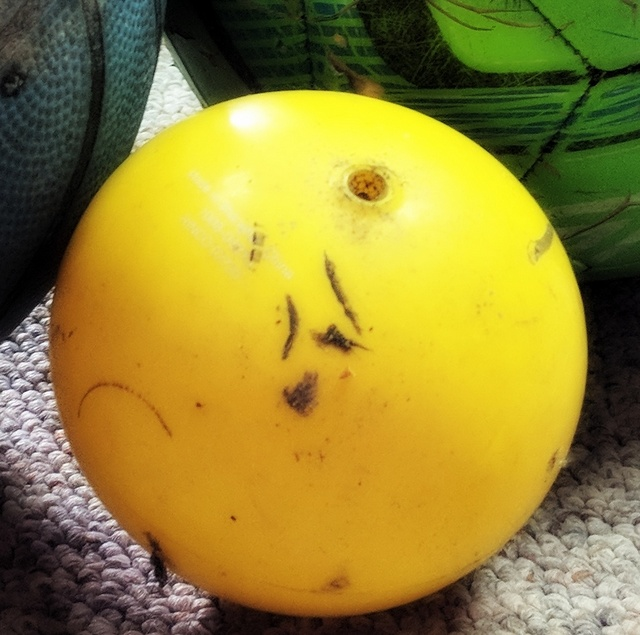ball: (50, 88, 591, 615)
